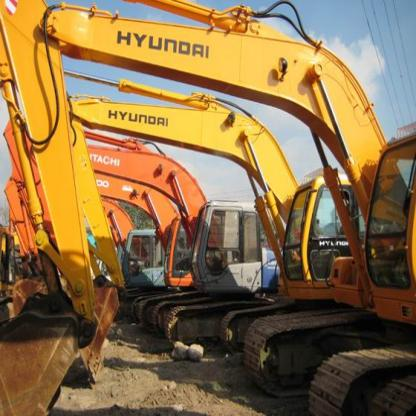excavator: (1, 1, 413, 415)
